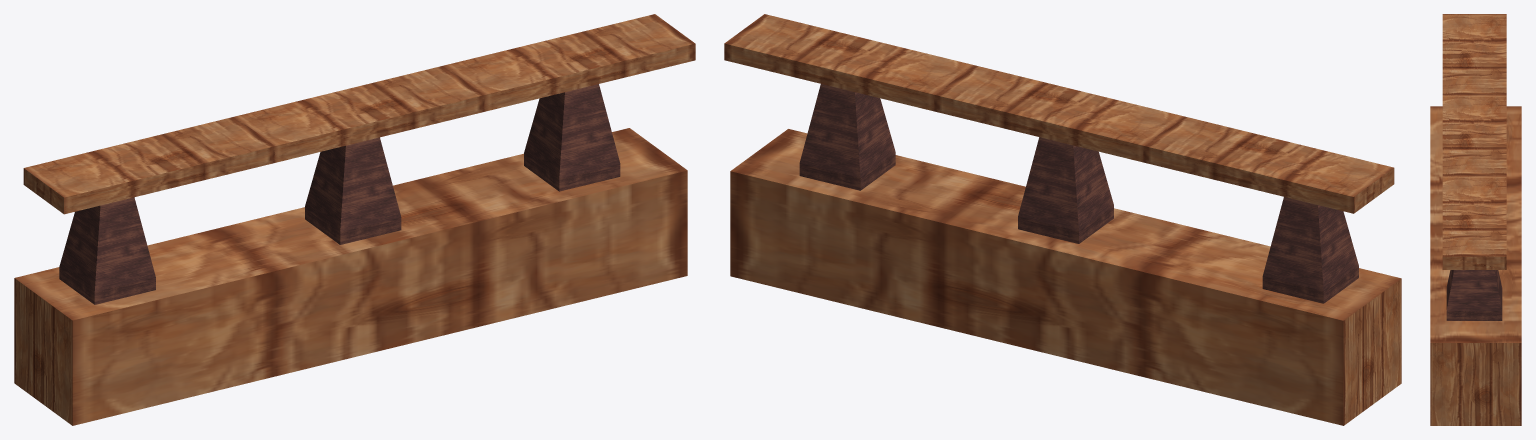
The model's file is balustrada.glb.
The picture shows the model from 3 angles, left to right: view 1: azimuth 30°, elevation 25°; view 2: azimuth 150°, elevation 25°; view 3: azimuth 270°, elevation 25°; orthographic projection. The views are drawn at different scales.
Parts seen in each view (by area): view 1: Cube, Cube.002, Cube.006, Cube.004, Cube.005, Cube.001, Cube.003; view 2: Cube, Cube.002, Cube.006, Cube.004, Cube.005, Cube.001, Cube.003; view 3: Cube, Cube.006, Cube.004, Cube.002, Cube.005.
Part boxes in pixels (x1,y1,x2,y2): Cube: [14, 128, 687, 425]; Cube.002: [23, 116, 275, 214]; Cube.006: [444, 14, 695, 111]; Cube.004: [235, 65, 484, 162]; Cube.005: [524, 84, 620, 191]; Cube.001: [59, 197, 155, 304]; Cube.003: [305, 137, 401, 244]; Cube: [730, 129, 1401, 425]; Cube.002: [1143, 116, 1394, 213]; Cube.006: [724, 14, 974, 111]; Cube.004: [934, 65, 1184, 162]; Cube.005: [799, 84, 895, 190]; Cube.001: [1262, 197, 1358, 303]; Cube.003: [1018, 137, 1113, 243]; Cube: [1430, 106, 1521, 425]; Cube.006: [1442, 175, 1506, 269]; Cube.004: [1442, 94, 1506, 175]; Cube.002: [1442, 14, 1506, 94]; Cube.005: [1446, 270, 1502, 320].
Size of the model in its own units: 4.14 by 1.4 by 0.6613.
Materials: 6 (6 with a texture image).
